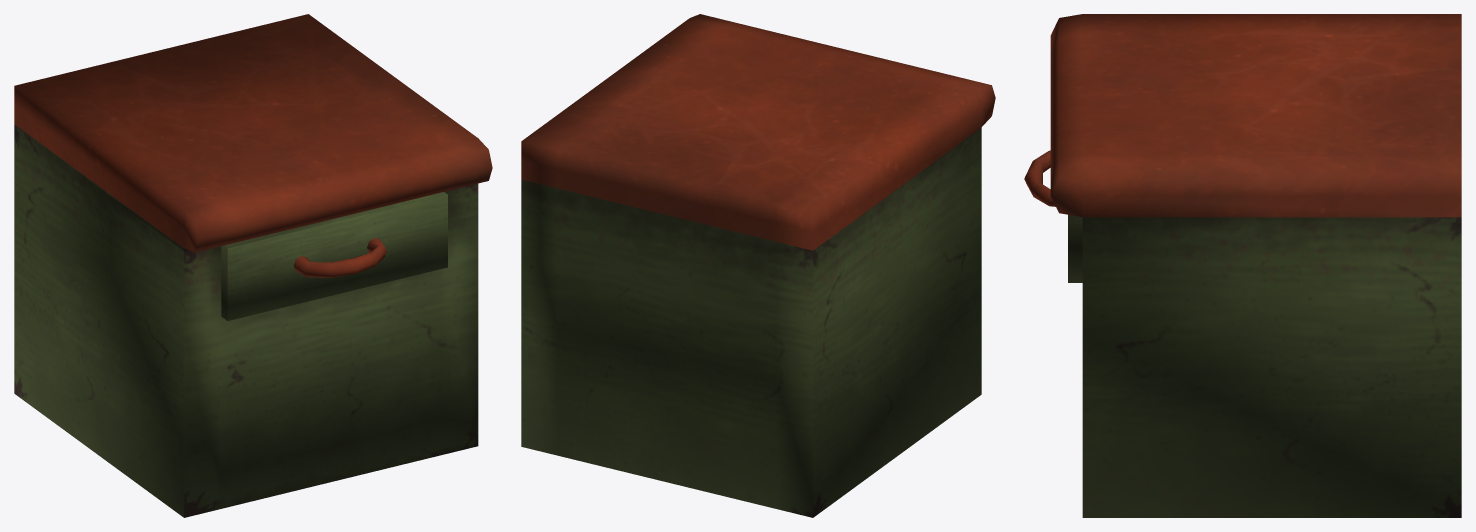
The model's file is Bancada.fbx.
3 views of the same model, side by side, from view 1: azimuth 30°, elevation 25°; view 2: azimuth 150°, elevation 25°; view 3: azimuth 270°, elevation 25° (orthographic). The views are drawn at different scales.
Visible parts, largest first — view 1: Bancada; view 2: Bancada; view 3: Bancada.
Part boxes in pixels (left/top/right/bottom): Bancada: left=14, top=14, right=492, bottom=517; Bancada: left=521, top=14, right=995, bottom=517; Bancada: left=1024, top=14, right=1461, bottom=517.
Bounding box in the file's own units: 80 × 80 × 92.32.
